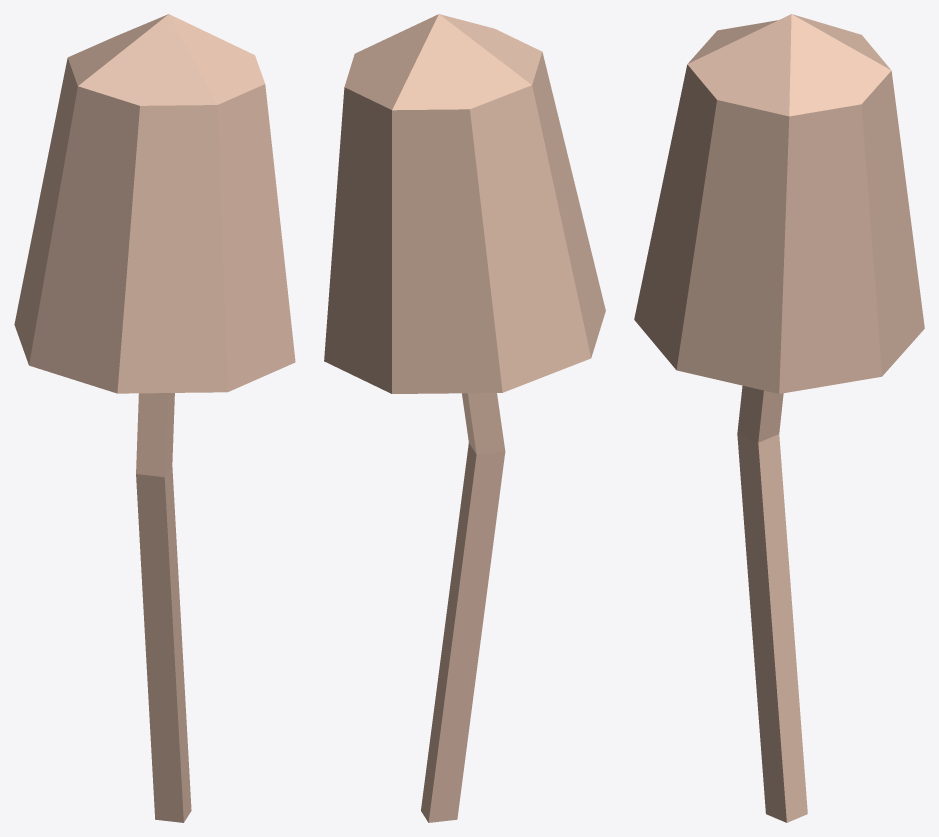
The model's file is Mushroom_b_02.fbx.
The picture shows the model from 3 angles, left to right: view 1: azimuth 30°, elevation 25°; view 2: azimuth 150°, elevation 25°; view 3: azimuth 270°, elevation 25°; orthographic projection.
Visible parts, largest first — view 1: Mushroom_b_02; view 2: Mushroom_b_02; view 3: Mushroom_b_02.
Boxes of the visible parts, x1,y1,x2,y2 form: Mushroom_b_02: [14, 14, 295, 822]; Mushroom_b_02: [324, 14, 605, 822]; Mushroom_b_02: [634, 14, 924, 822].
Bounding box in the file's own units: 0.12 × 0.3645 × 0.1202.
